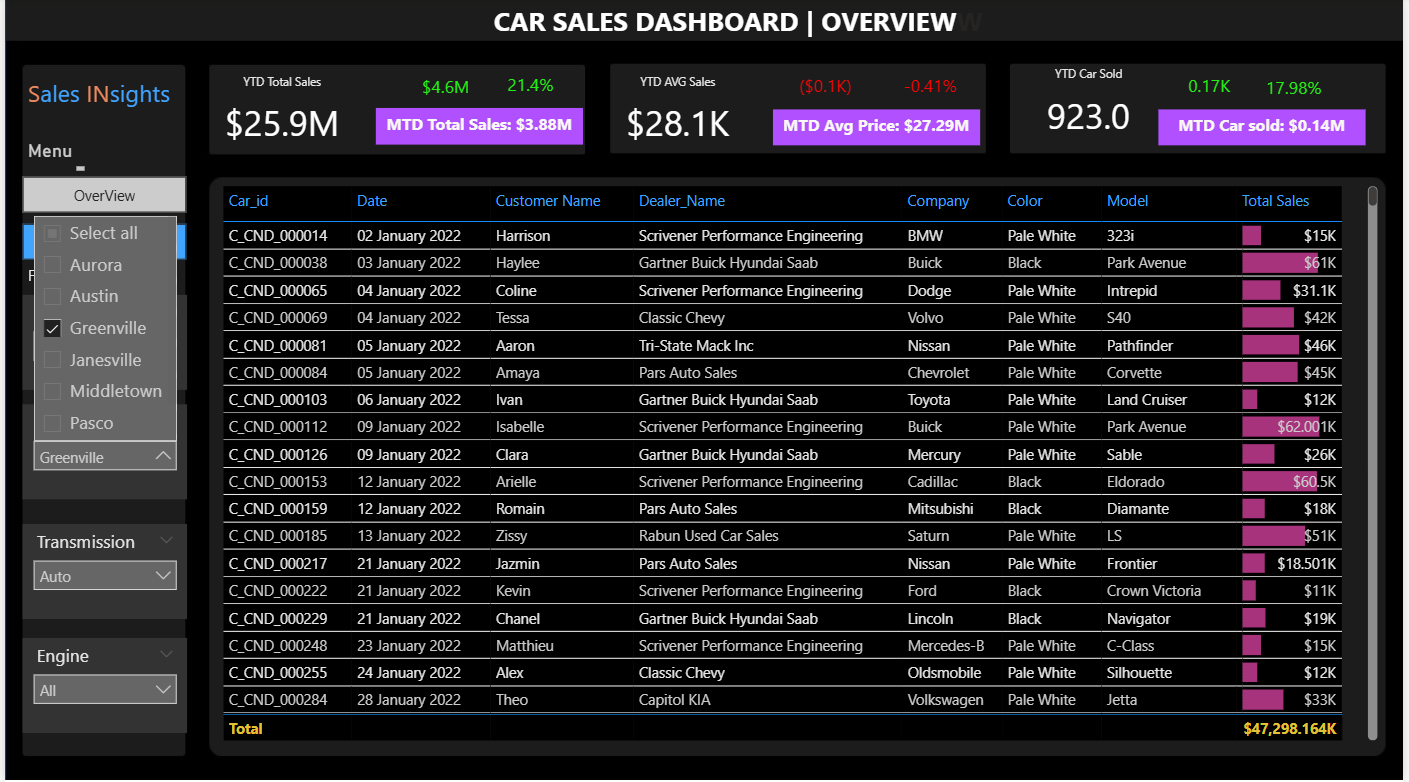

Layout of this report page (visuals, bound fields, positions):
{"tool":"powerbi","page":{"name":"Details ","canvas":[1280,720],"ordinal":1},"visuals":[{"type":"card","title":"YTD Total Sales","fields":{"Values":["car_data.YTD Total Sales"]},"box":[166.7,70,173.3,78.3],"z":0},{"type":"card","fields":{"Values":["car_data.Sales Diffrence"]},"box":[355,65,96.7,36.7],"z":1000},{"type":"card","fields":{"Values":["car_data.YTY total Growth"]},"box":[433.3,68.3,96.7,28.3],"z":2000},{"type":"card","fields":{"Values":["car_data.MTD KPI"]},"box":[340,101.7,190,33.3],"z":3000},{"type":"card","title":"YTD AVG Sales","fields":{"Values":["car_data.YTD Avg Car Price"]},"box":[530,70,173.3,78.3],"z":4000},{"type":"card","fields":{"Values":["car_data.Avg Price Diff"]},"box":[703.3,60,96.7,46.7],"z":5000},{"type":"card","fields":{"Values":["car_data.YOY Avg Price Growth"]},"box":[798.9,60.2,96.3,46.6],"z":6000},{"type":"card","title":"MTD Avg Price","fields":{"Values":["car_data.MTD Avg Price KPI"]},"box":[702.6,102.3,189.6,33.1],"z":7000},{"type":"card","title":"YTD Car Sold","fields":{"Values":["car_data.YTD Car Sold"]},"box":[905.7,63.2,174.5,78.2],"z":8000},{"type":"card","fields":{"Values":["car_data.Diff b/w Car Sold"]},"box":[1054.7,60.2,96.3,46.6],"z":9000},{"type":"card","fields":{"Values":["car_data.YOY Car sold growth"]},"box":[1132.9,61.7,96.3,46.6],"z":10000},{"type":"card","title":"MTD Avg Price","fields":{"Values":["car_data.MTD Car Sold KPI"]},"box":[1056.2,102.3,189.6,33.1],"z":11000},{"type":"textbox","box":[442.5,0,466.6,65.5],"z":12000},{"type":"slicer","fields":{"Values":["car_data.Body Style"]},"box":[16,272.9,151,87.1],"z":13000},{"type":"slicer","fields":{"Values":["car_data.Dealer_Region"]},"box":[16,373.1,151,87.1],"z":14000},{"type":"slicer","fields":{"Values":["car_data.Transmission"]},"box":[16,482,151,87.1],"z":15000},{"type":"slicer","fields":{"Values":["car_data.Engine"]},"box":[16,586.5,151,87.1],"z":16000},{"type":"textbox","box":[16.5,240.7,117.4,31.6],"z":17000},{"type":"tableEx","fields":{"Values":["car_data.Car_id","car_data.Date","car_data.Customer Name","car_data.Dealer_Name","car_data.Company","car_data.Color","car_data.Model","Sum(car_data.Price ($))"]},"box":[194.1,168.5,1068.2,517.5],"z":18000},{"type":"pageNavigator","box":[16.5,164,150.5,76.7],"z":19000},{"type":"textbox","title":"Menu","box":[16.5,130.9,61.7,33.1],"z":20000},{"type":"textbox","box":[16.5,67.7,150.5,49.6],"z":21000}]}

Visuals, with their boxes in screenshot pixels (x1, y1, x2, y2), scaled from the page's 1280x720 canvas onto the 1409x782 screenshot:
"YTD Total Sales" card: rect(184, 76, 374, 161)
card - car_data.Sales Diffrence: rect(391, 71, 497, 110)
card - car_data.YTY total Growth: rect(477, 74, 583, 105)
card - car_data.MTD KPI: rect(374, 110, 583, 147)
"YTD AVG Sales" card: rect(583, 76, 774, 161)
card - car_data.Avg Price Diff: rect(774, 65, 881, 116)
card - car_data.YOY Avg Price Growth: rect(879, 65, 985, 116)
"MTD Avg Price" card: rect(773, 111, 982, 147)
"YTD Car Sold" card: rect(997, 69, 1189, 154)
card - car_data.Diff b/w Car Sold: rect(1161, 65, 1267, 116)
card - car_data.YOY Car sold growth: rect(1247, 67, 1353, 118)
"MTD Avg Price" card: rect(1163, 111, 1371, 147)
textbox: rect(487, 0, 1001, 71)
slicer - car_data.Body Style: rect(18, 296, 184, 391)
slicer - car_data.Dealer_Region: rect(18, 405, 184, 500)
slicer - car_data.Transmission: rect(18, 524, 184, 618)
slicer - car_data.Engine: rect(18, 637, 184, 732)
textbox: rect(18, 261, 147, 296)
tableEx - car_data.Car_id x car_data.Date: rect(214, 183, 1390, 745)
pageNavigator: rect(18, 178, 184, 261)
"Menu" textbox: rect(18, 142, 86, 178)
textbox: rect(18, 74, 184, 127)
